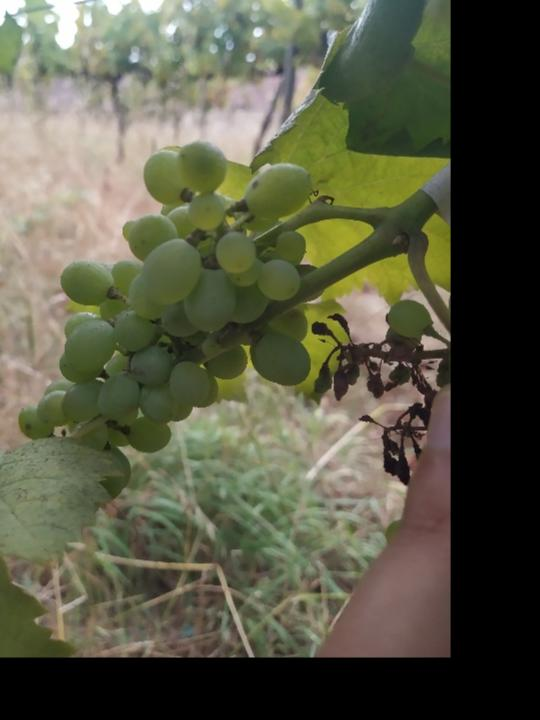grape: (16, 139, 316, 464)
